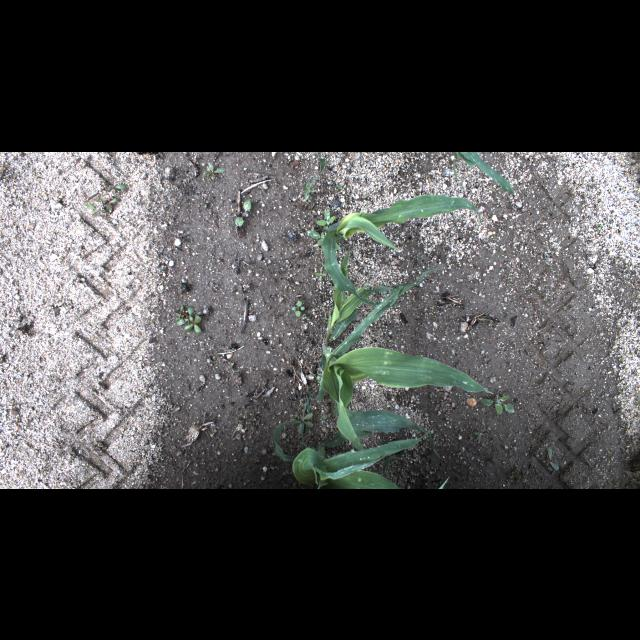crop: (318, 264, 490, 458), (314, 193, 483, 304), (267, 421, 448, 487), (450, 151, 518, 199)
weed: (308, 206, 339, 248), (172, 302, 210, 334), (288, 398, 316, 434), (478, 392, 522, 414), (198, 160, 228, 184), (84, 194, 116, 216), (233, 198, 253, 228), (300, 172, 320, 202), (542, 446, 564, 472), (104, 180, 128, 198), (312, 152, 331, 174), (288, 299, 306, 319), (470, 426, 488, 444), (198, 196, 214, 214), (332, 179, 352, 193), (310, 269, 328, 279), (594, 223, 608, 234)
